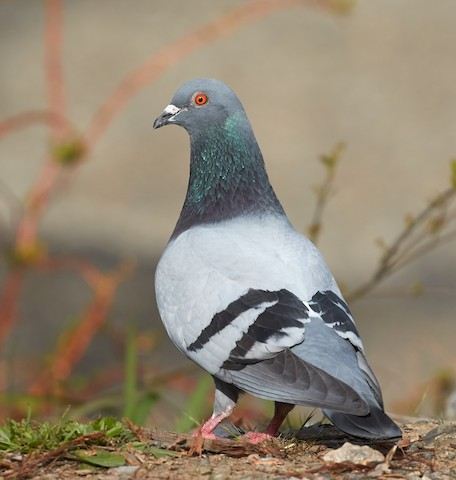pigeon: (147, 75, 406, 461)
